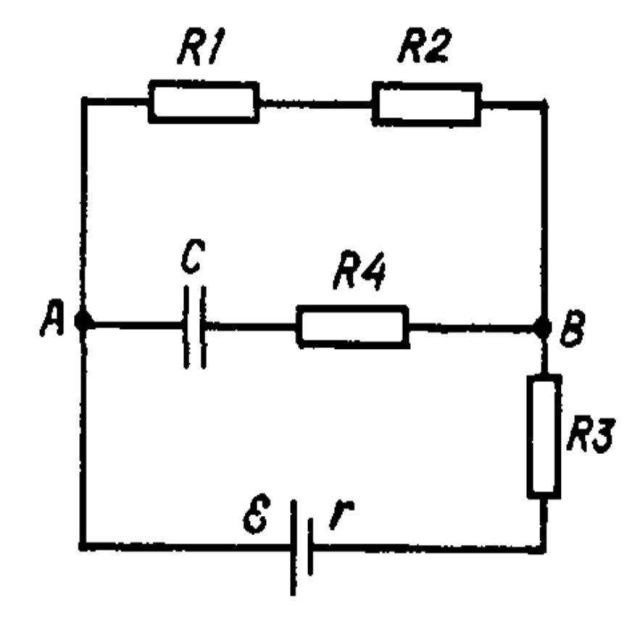cap: (176, 277, 214, 374)
net: (71, 534, 288, 562), (317, 539, 554, 558), (199, 314, 298, 336), (254, 96, 381, 113), (73, 87, 153, 112), (470, 94, 554, 117), (537, 487, 550, 560)
net_node: (73, 88, 94, 562), (536, 88, 552, 391), (67, 306, 187, 342), (402, 314, 559, 341)
res: (369, 77, 489, 135), (290, 299, 416, 354), (520, 369, 568, 504), (145, 76, 267, 127)
